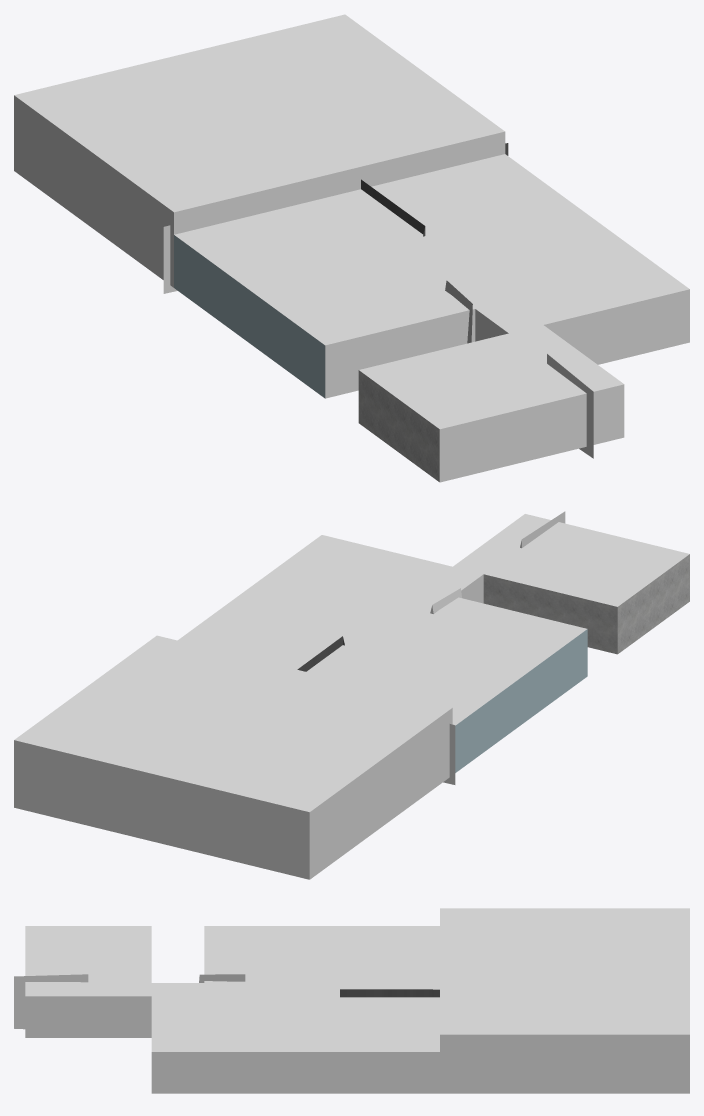
3 renders of one model, top to bottom at view 1: azimuth 30°, elevation 25°; view 2: azimuth 150°, elevation 25°; view 3: azimuth 270°, elevation 25°, orthographic. The views are drawn at different scales.
Parts seen in each view (by area): view 1: Cube003_1, Cube003_4, Cube003_2, Cube003; view 2: Cube003_1, Cube003_2, Cube003_4; view 3: Cube003_1, Cube003_3, Cube003.
Part boxes in pixels (<box>): Cube003_1: <box>14,14,689,482</box>; Cube003_4: <box>174,235,325,398</box>; Cube003_2: <box>358,370,439,481</box>; Cube003: <box>361,143,508,236</box>; Cube003_1: <box>14,511,689,879</box>; Cube003_2: <box>483,554,689,654</box>; Cube003_4: <box>455,629,587,772</box>; Cube003_1: <box>14,908,689,1093</box>; Cube003_3: <box>204,1052,439,1093</box>; Cube003: <box>340,989,439,997</box>.
Bounding box in the file's own units: 41.35 × 9.84 × 90.05.
5 materials, 2 textured.
